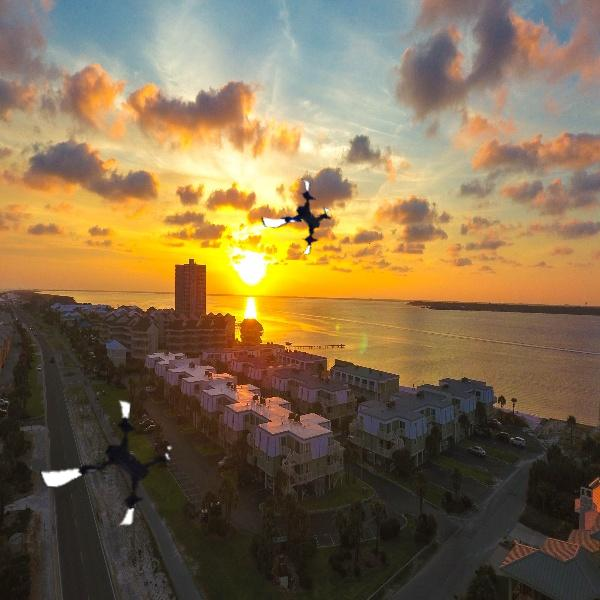drone: (36, 392, 181, 537), (256, 175, 336, 255)
